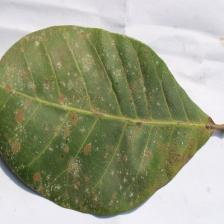red rust: (0, 24, 223, 216)
